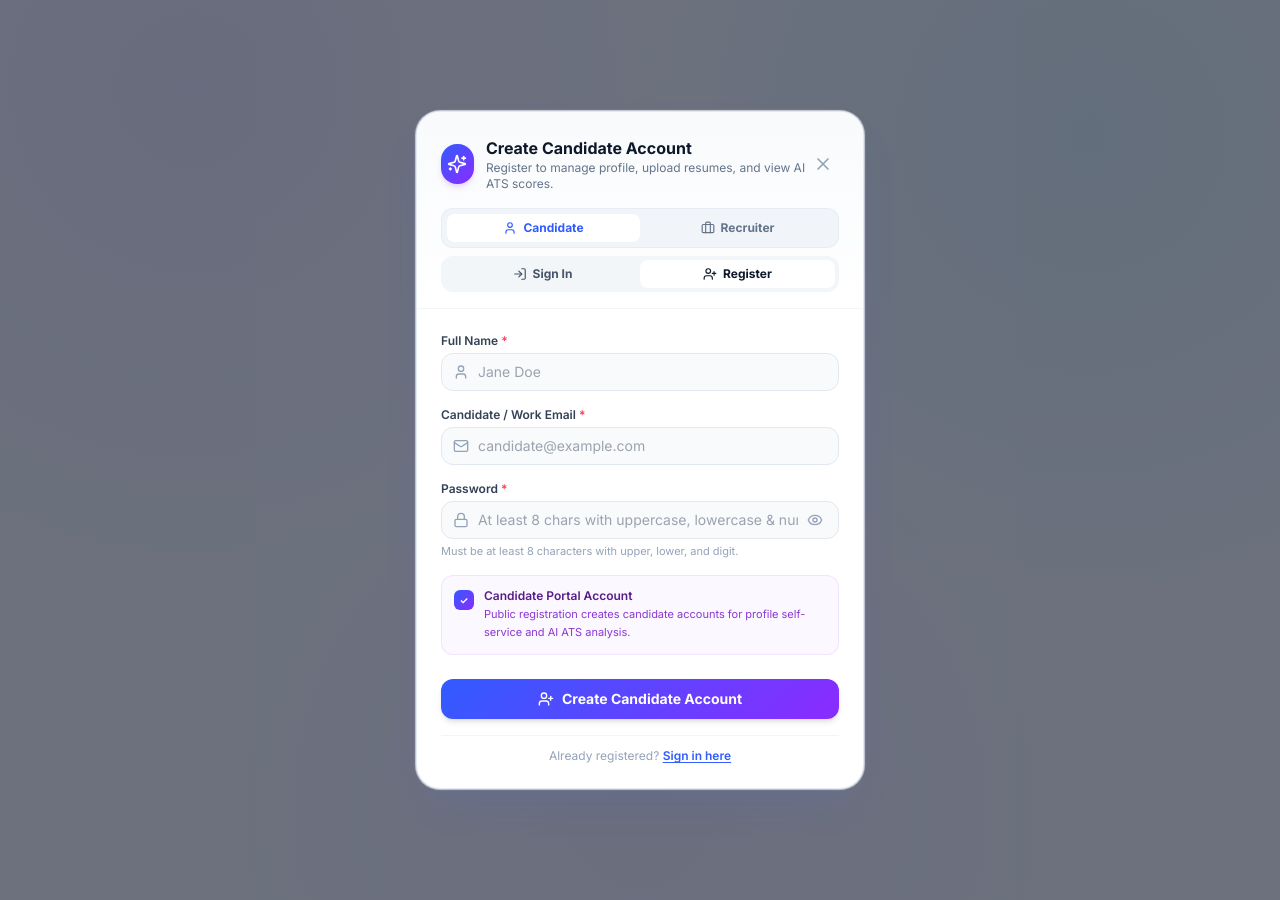
Scenario: EarlyAI ATS — Frontend Recruiter Registration & Role Persistence Flow › 1. Selecting Recruiter in AuthModal displays recruiter registration form fields
Expected: the heading "Create Candidate Account" is shown, [486,138,692,158]
Expected: the field labelled "company name" is not shown
Switch to Recruiter tab
Click the tab with test id "auth-role-recruiter": (738, 228) [641,214,834,242]
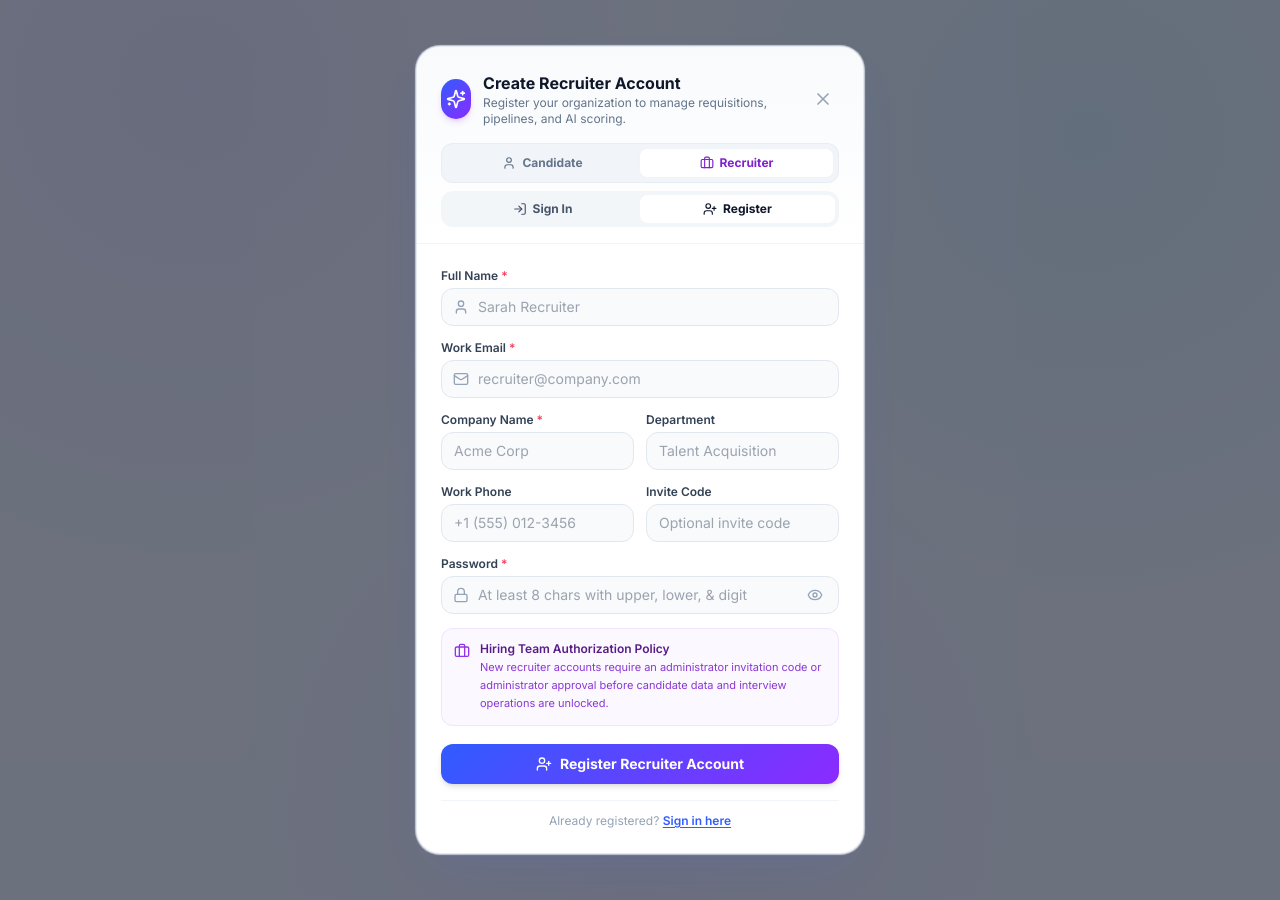
Result: the heading "Create Recruiter Account" is shown at [483,73,681,93]
Result: the field labelled "Company Name *" is shown at [441,432,634,470]
Result: the field labelled "Department" is shown at [646,432,839,470]
